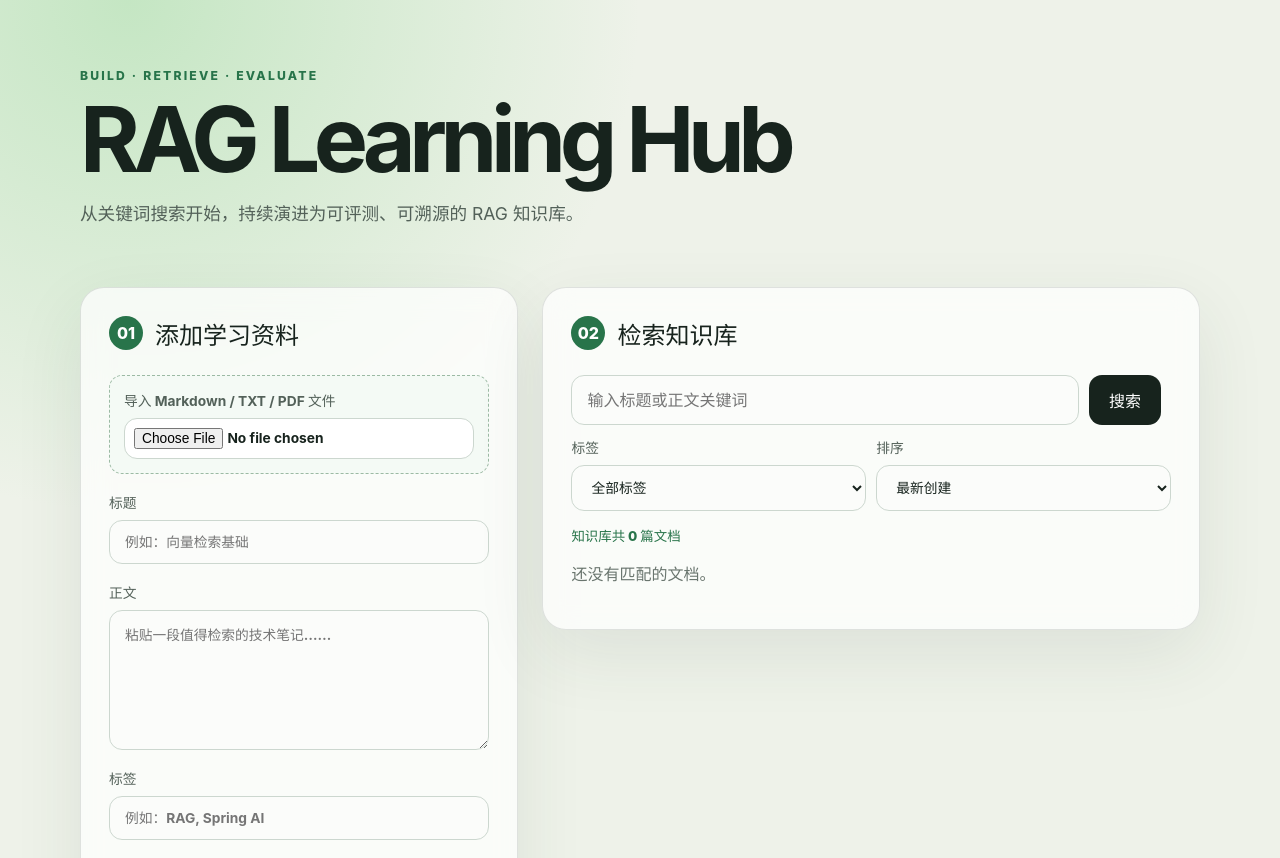
Test: App › uses committed filters for later pages and resets on a new search
The image size is (1280, 858).
Type "rag" into the field with placeholder "输入标题或正文关键词" at point(825, 400), box [571,375,1079,425]
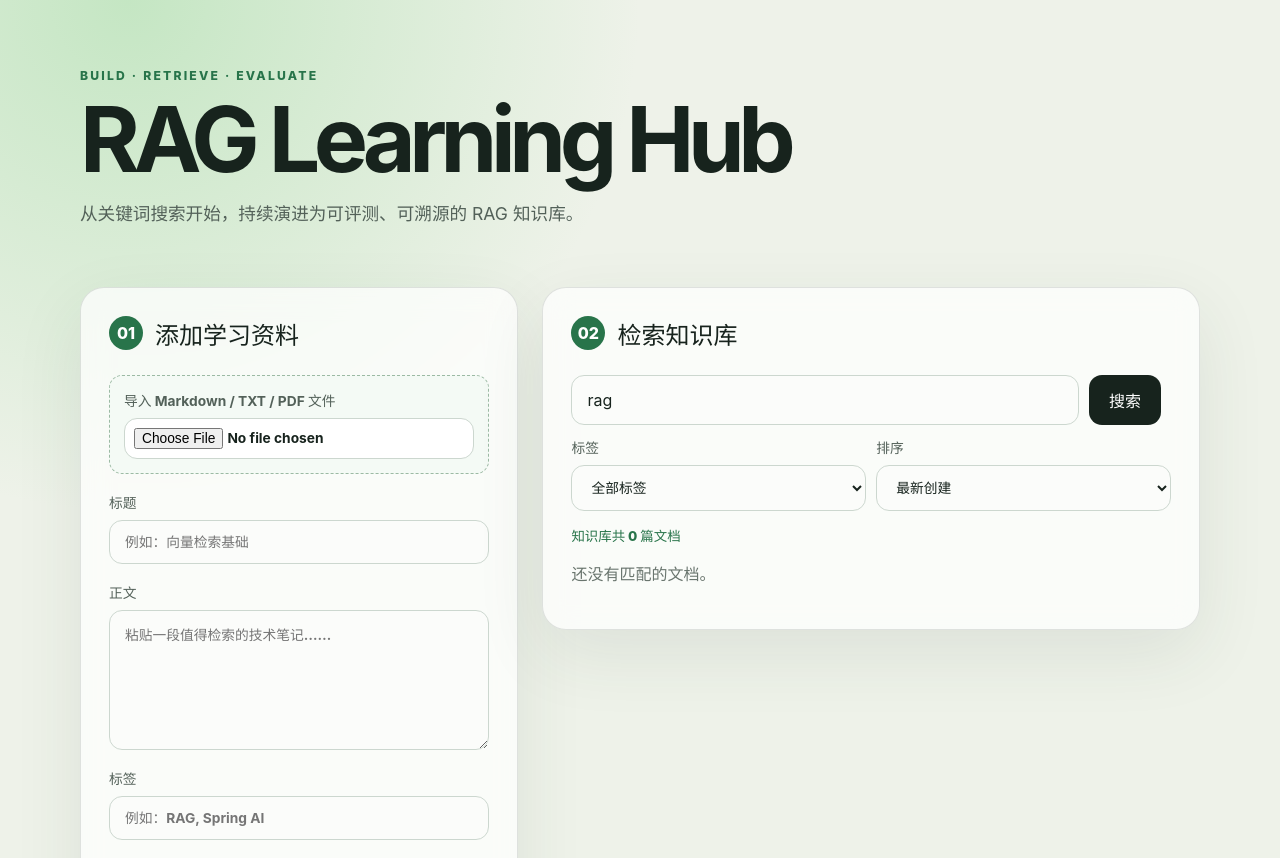
Submit the form with class "search", box [571,375,1171,511]
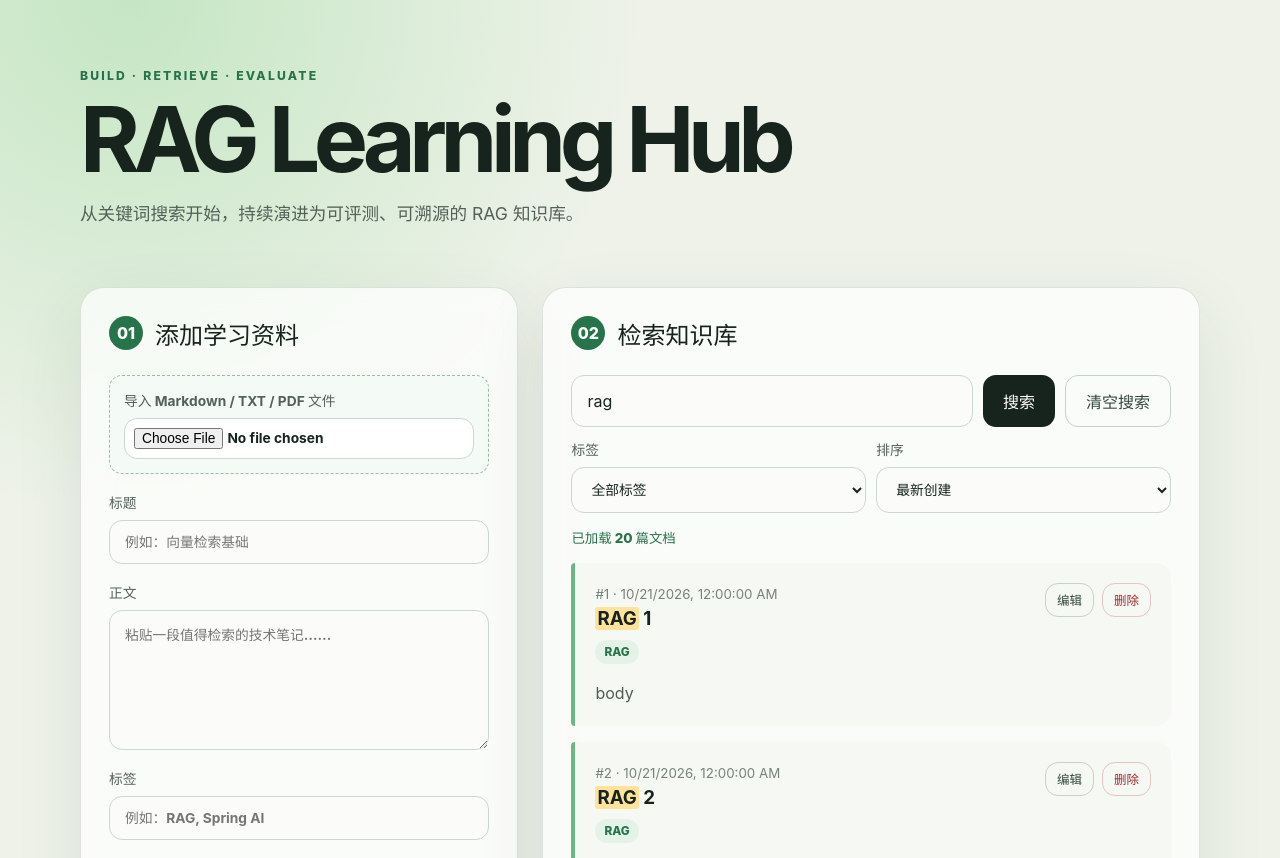
Replace the text in the field with placeholder "输入标题或正文关键词" with "changed" at point(772, 401), box [571,375,973,427]
(page scrolled)
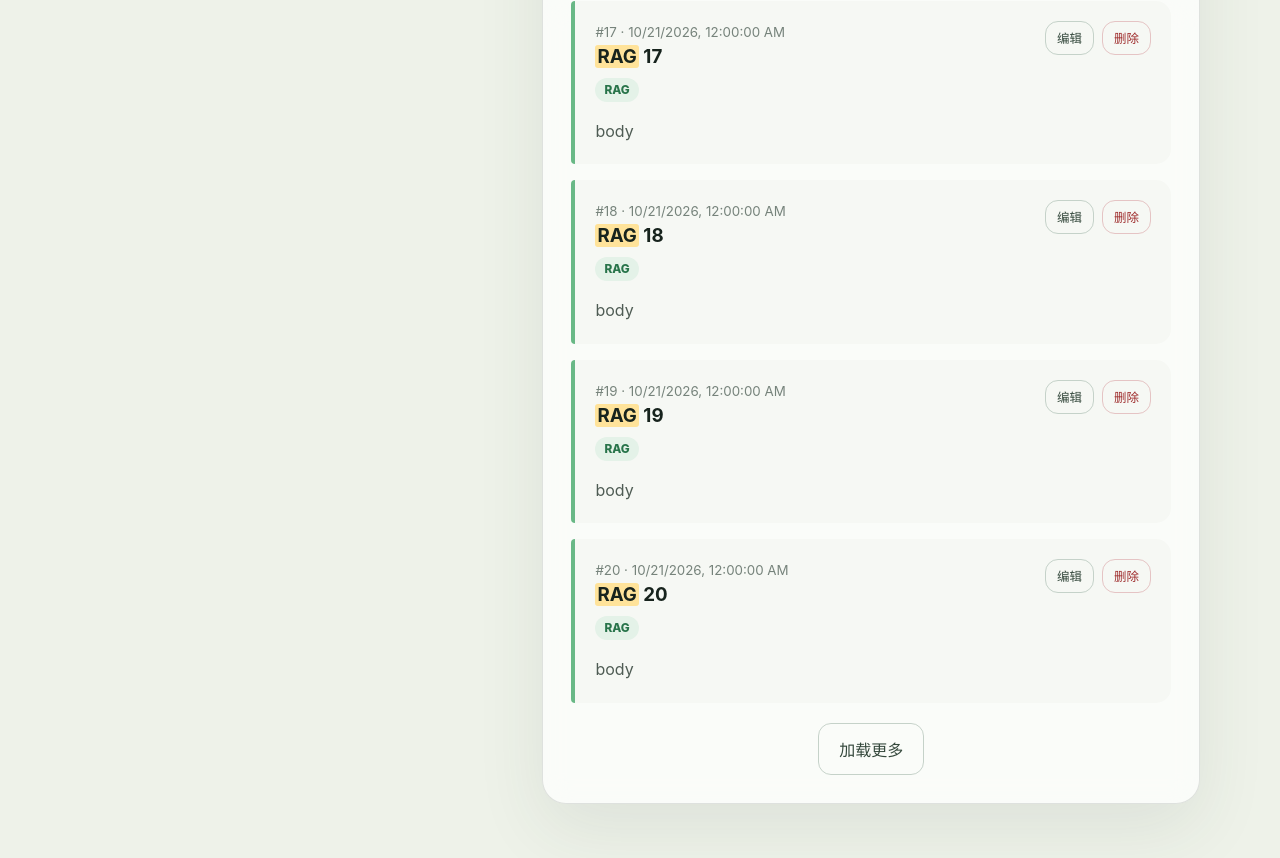
Click the button with class "load-more" at point(871, 749), box [818,723,924,775]
(page scrolled)
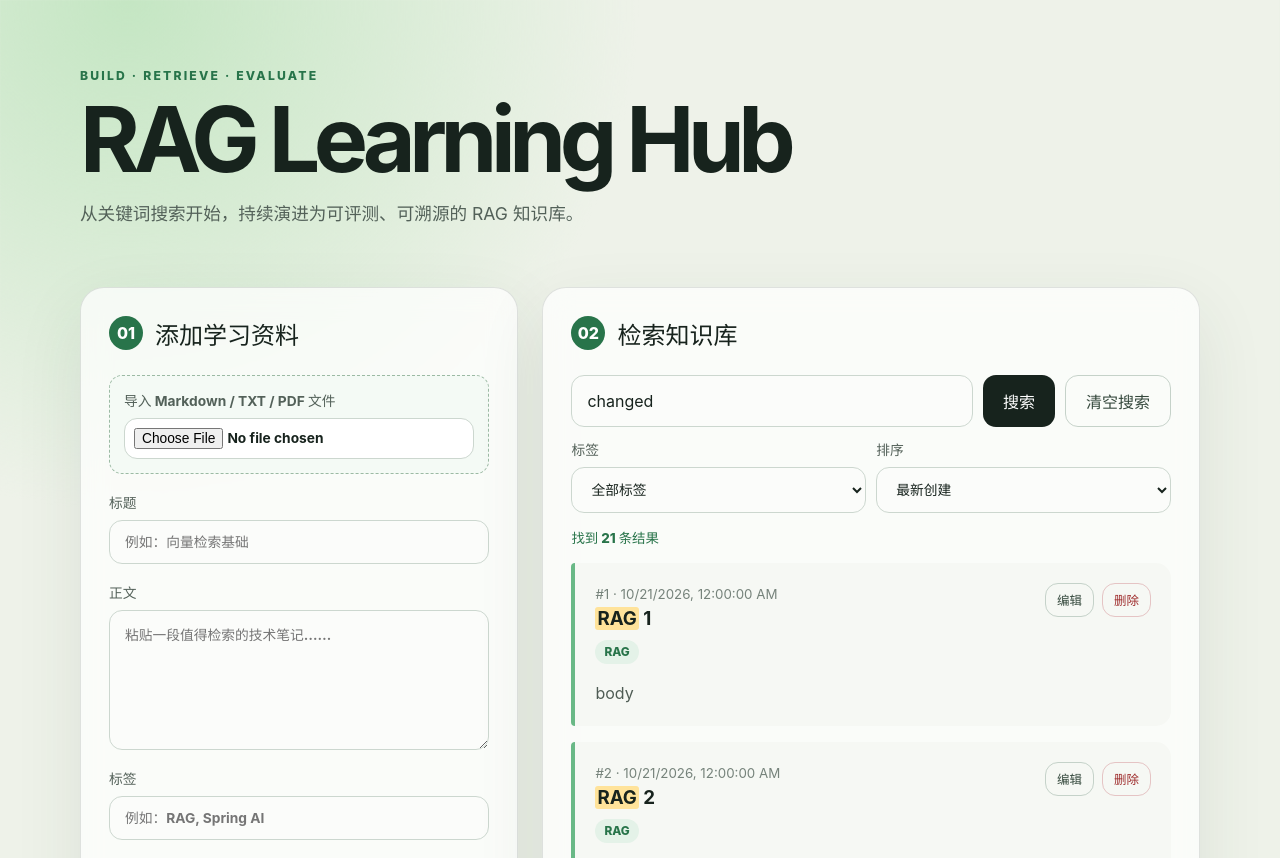
Check: the number of elements with class "document" is 21
Submit the form with class "search", box [571,375,1171,513]
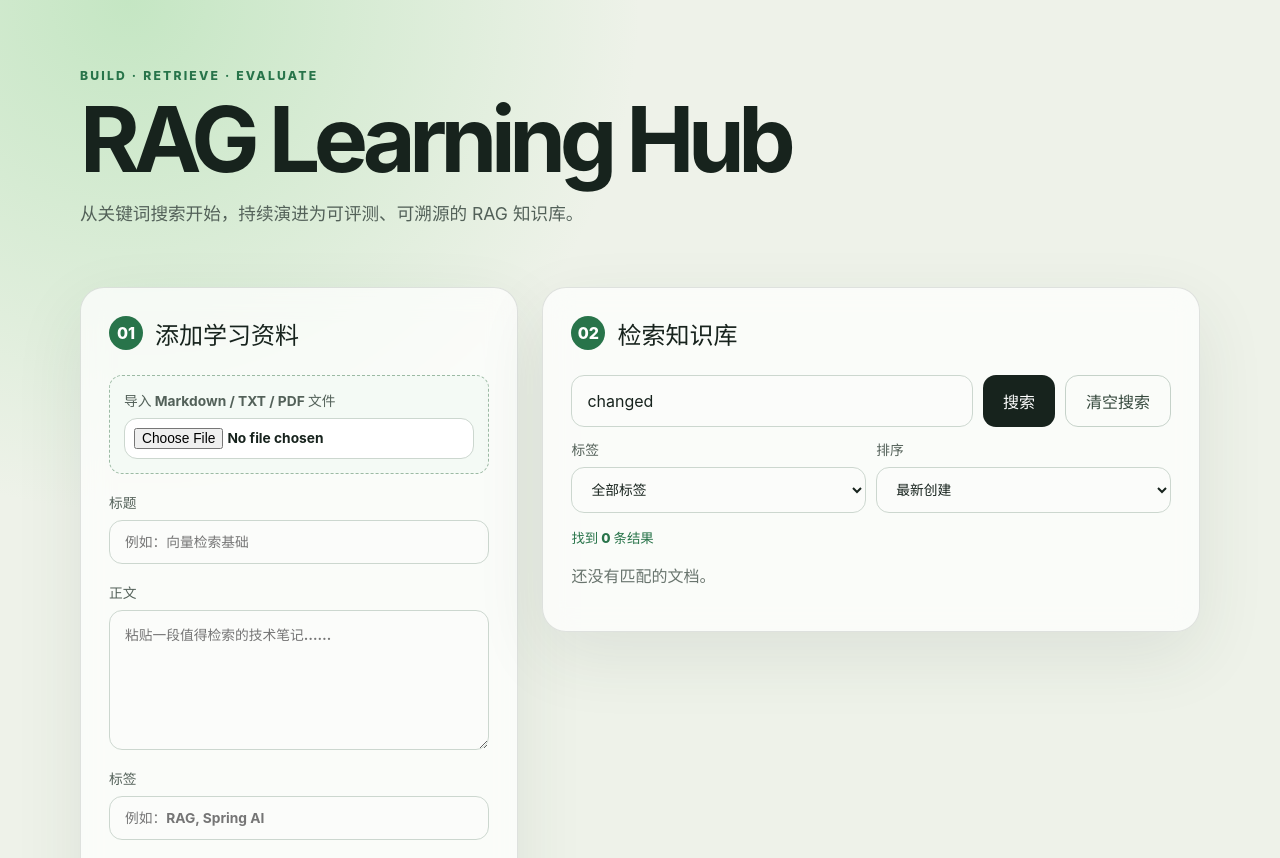
Check: no elements with class "document" are shown
